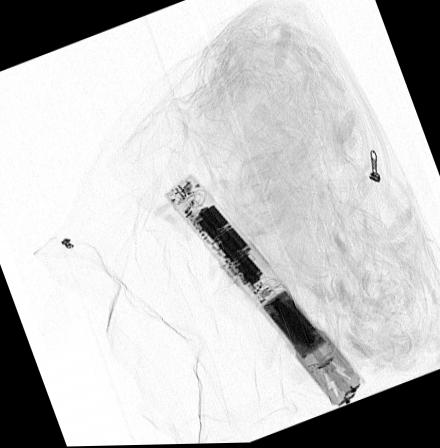Baton: (161, 172, 364, 408)
